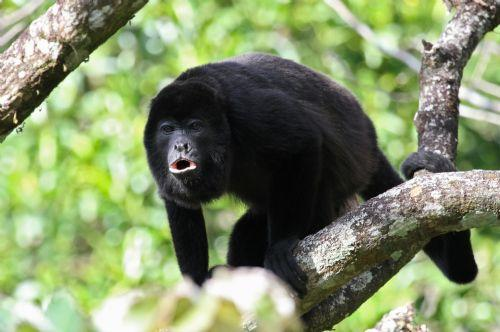monkey: (145, 54, 405, 297)
